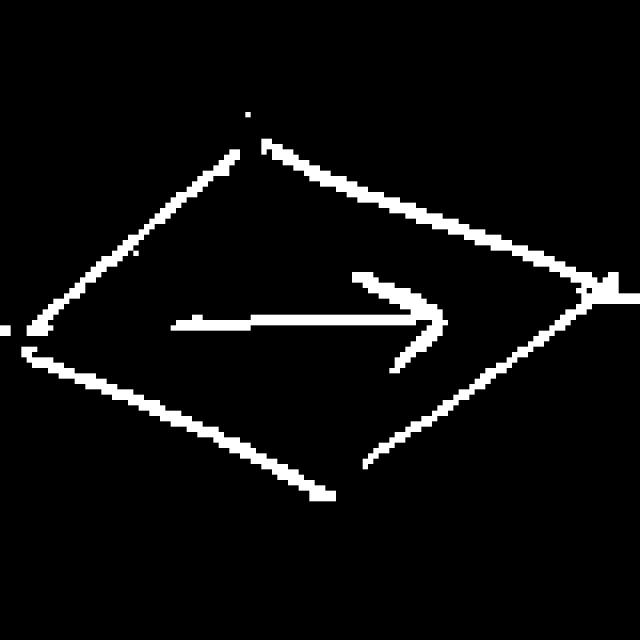dependant_current: (11, 131, 619, 527)
